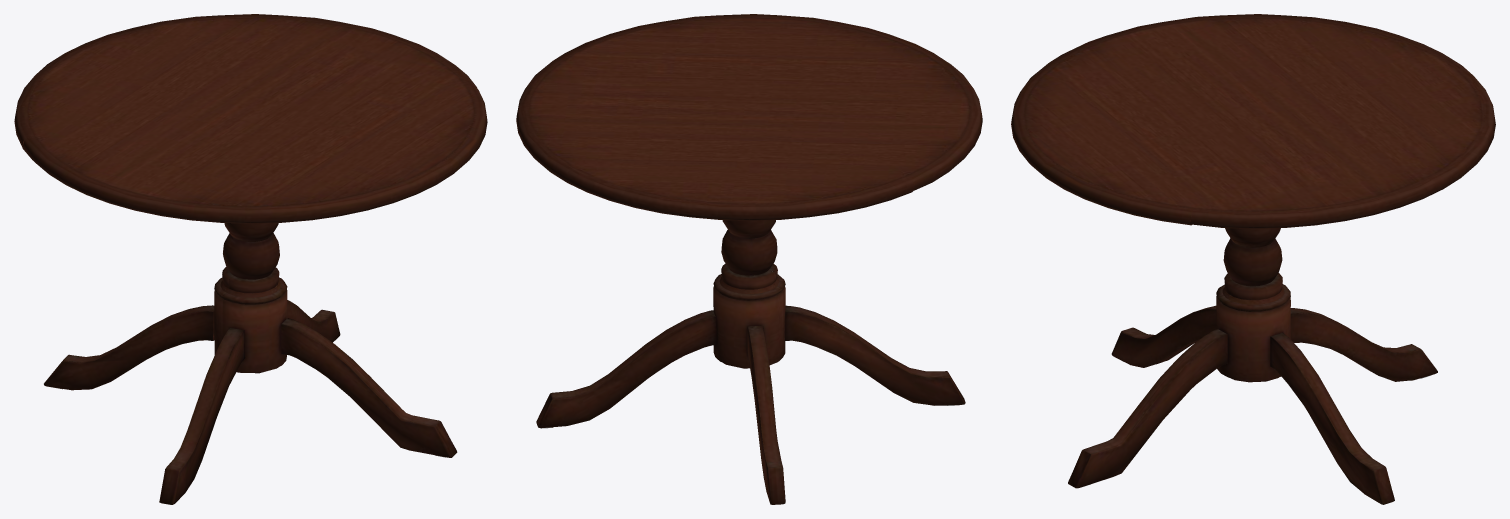
The model's file is round_table.glb.
3 renders of one model, left to right at view 1: azimuth 30°, elevation 25°; view 2: azimuth 150°, elevation 25°; view 3: azimuth 270°, elevation 25°, orthographic. The views are drawn at different scales.
Parts seen in each view (by area): view 1: round_wooden_table_01; view 2: round_wooden_table_01; view 3: round_wooden_table_01.
Boxes of the visible parts, x1=… form: round_wooden_table_01: x1=14, y1=14, x2=487, y2=504; round_wooden_table_01: x1=516, y1=14, x2=982, y2=504; round_wooden_table_01: x1=1011, y1=14, x2=1495, y2=504.
Bounding box in the file's own units: 1.4 × 1 × 1.4.
1 material, 1 textured.
